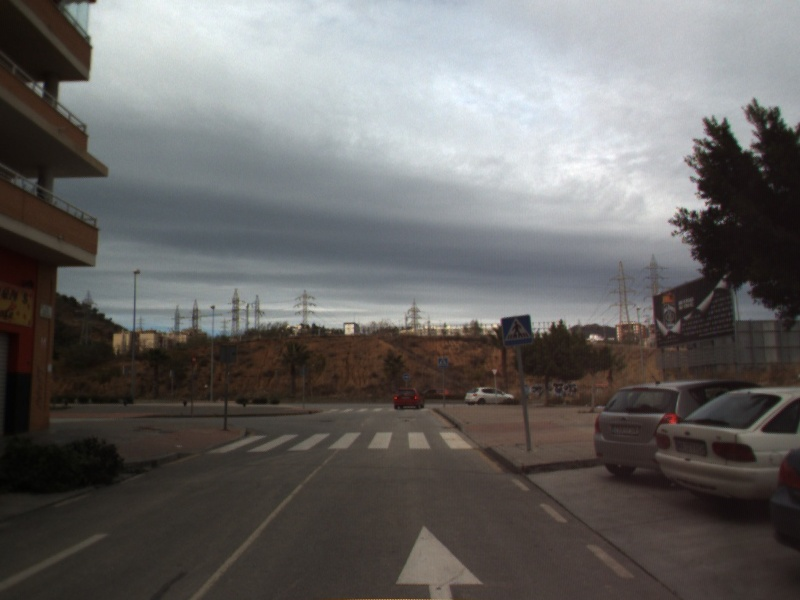STRAIGHT: (392, 522, 487, 600)
